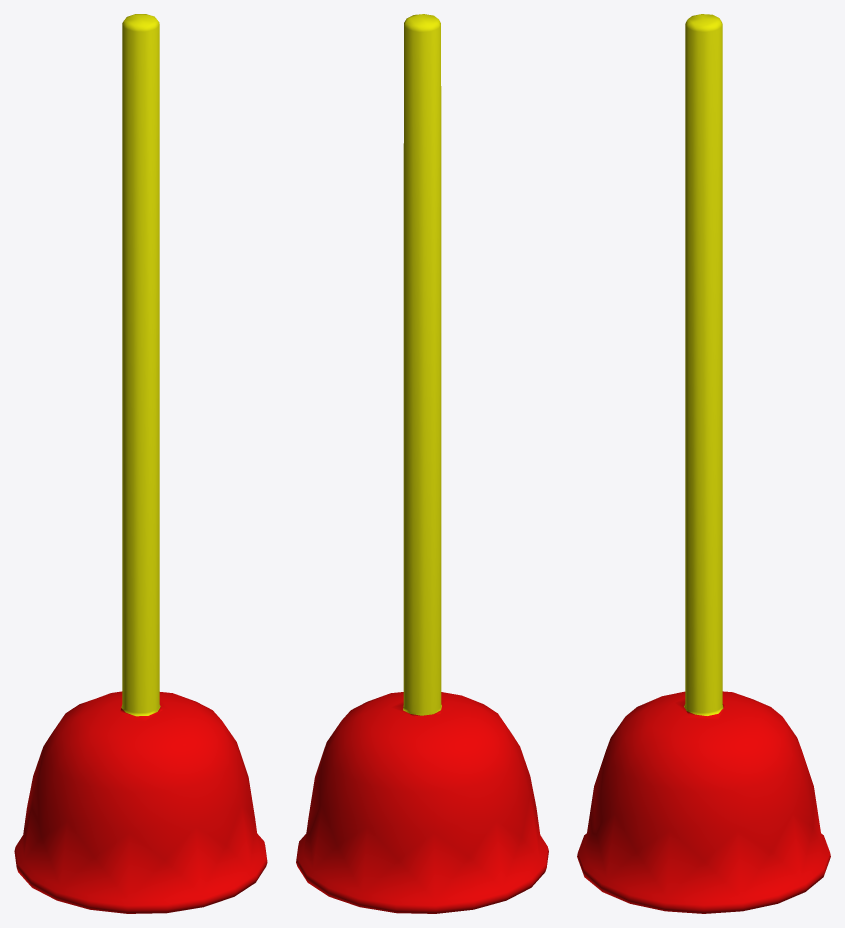
Rendered from plunger.fbx.
3 renders of one model, left to right at view 1: azimuth 30°, elevation 25°; view 2: azimuth 150°, elevation 25°; view 3: azimuth 270°, elevation 25°, orthographic.
Parts seen in each view (by area): view 1: plunger; view 2: plunger; view 3: plunger.
Boxes of the visible parts, bbox=[...] form: plunger: bbox=[14, 14, 267, 913]; plunger: bbox=[296, 14, 548, 913]; plunger: bbox=[577, 14, 830, 913].
Bounding box in the file's own units: 14.6 × 53.42 × 14.58.
